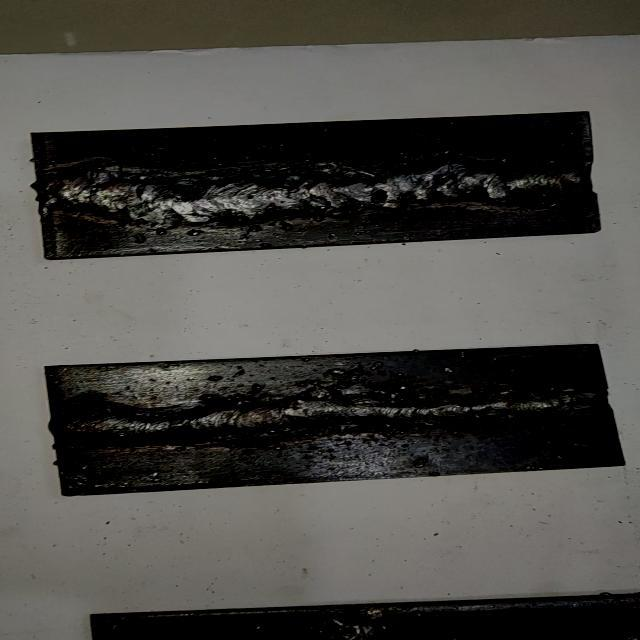Defect: (34, 153, 590, 227), (292, 364, 420, 408), (300, 614, 384, 640), (560, 378, 604, 422), (180, 390, 260, 412)
Welding Line: (44, 158, 590, 228), (59, 378, 611, 440)
Workpiece: (38, 338, 634, 499), (25, 108, 605, 264)
